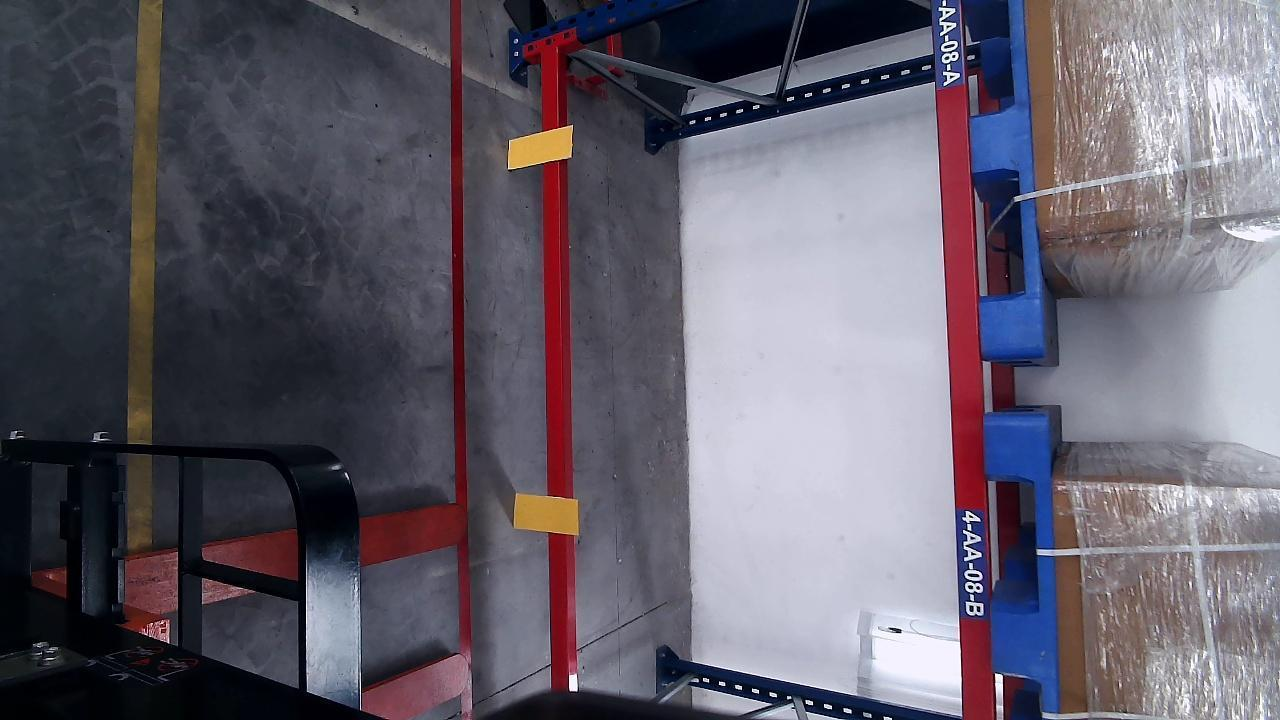red_line: (449, 2, 477, 718)
yellow_line: (127, 1, 167, 553)
